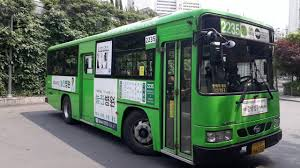out: (148, 10, 285, 164)
